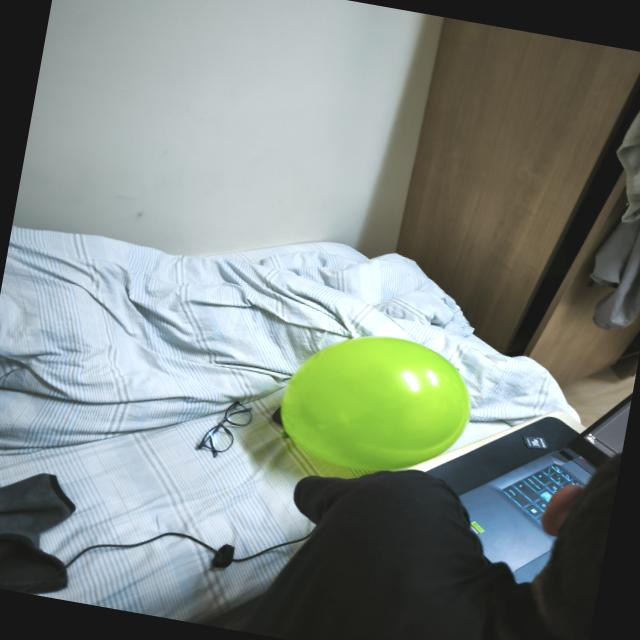balloon: (280, 337, 469, 470)
